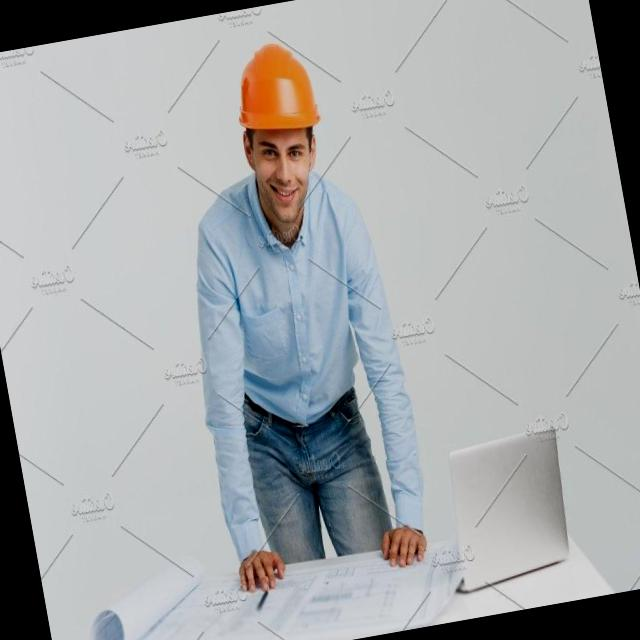helmet: (226, 36, 321, 137)
no-vest: (208, 169, 393, 504)
